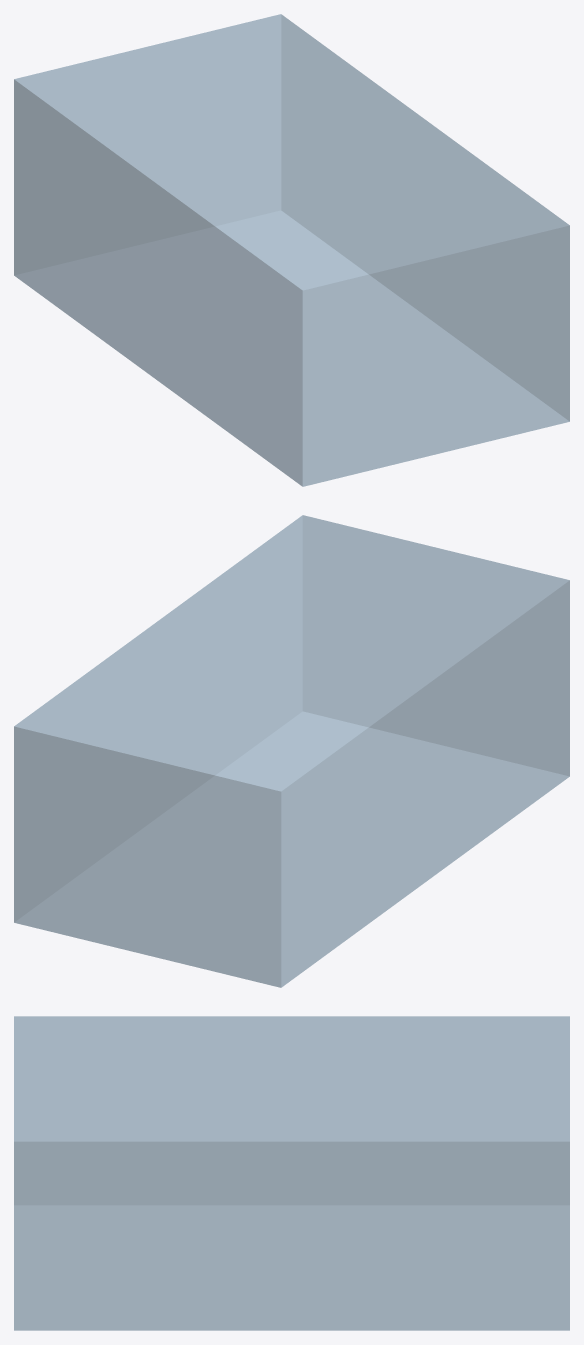
The model's file is blockout.glb.
3 views of the same model, one above another, from view 1: azimuth 30°, elevation 25°; view 2: azimuth 150°, elevation 25°; view 3: azimuth 270°, elevation 25° (orthographic). The views are drawn at different scales.
Visible parts, largest first — view 1: B01_ENVELOPE_NOT_FINAL_MESH; view 2: B01_ENVELOPE_NOT_FINAL_MESH; view 3: B01_ENVELOPE_NOT_FINAL_MESH.
Part boxes in pixels (box(x1,y1,x2,y2)): B01_ENVELOPE_NOT_FINAL_MESH: box(14, 14, 569, 486); B01_ENVELOPE_NOT_FINAL_MESH: box(14, 515, 569, 987); B01_ENVELOPE_NOT_FINAL_MESH: box(14, 1016, 569, 1330).
Size of the model in its own units: 2.35 by 1.65 by 4.4.
